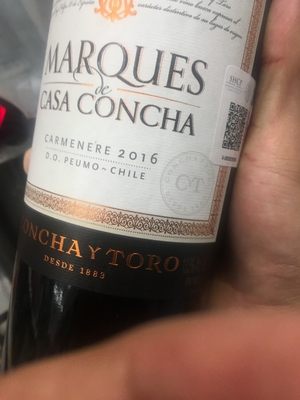marques de casa concha carmenere: (24, 4, 260, 323)
